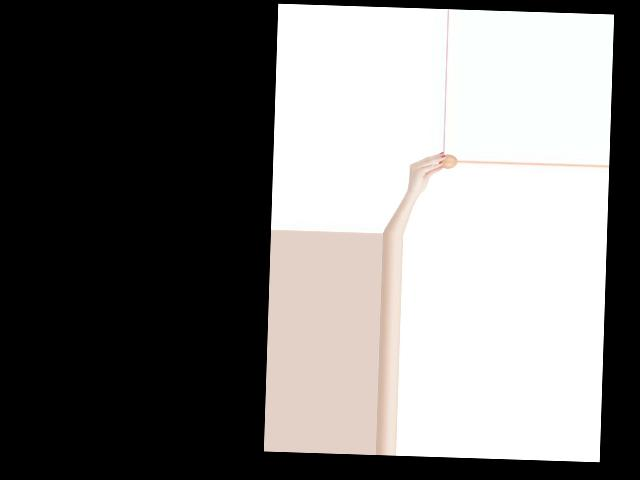egg: (438, 154, 457, 169)
